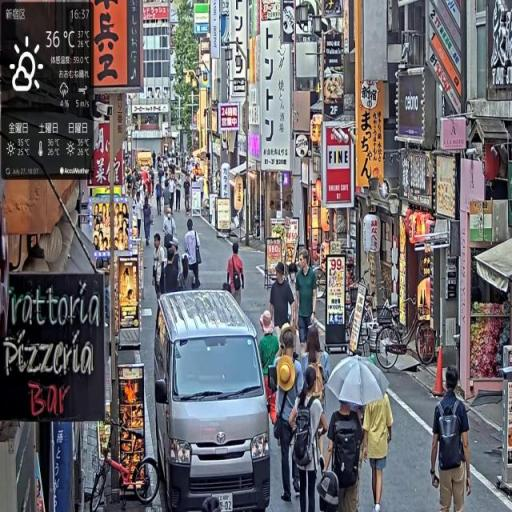person: (430, 365, 474, 512), (270, 330, 305, 507), (291, 365, 331, 511), (324, 396, 365, 512), (363, 394, 394, 512), (296, 250, 319, 359), (269, 262, 296, 337), (224, 241, 246, 308), (185, 216, 204, 293), (144, 197, 155, 248), (156, 177, 165, 216)
